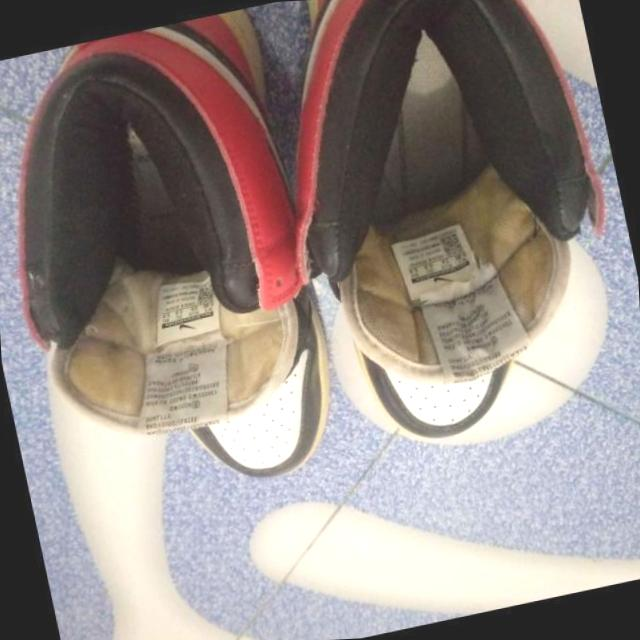nike_fake_jordan: (0, 0, 388, 527), (243, 0, 640, 463)
